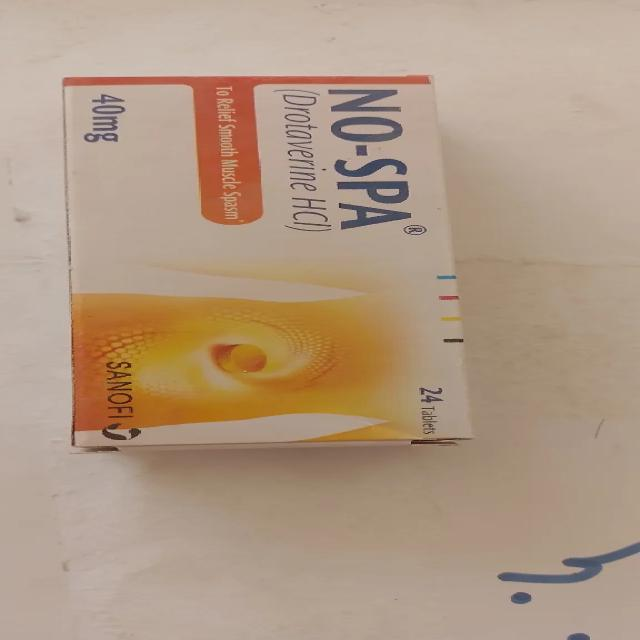drug-name: (326, 87, 415, 234)
